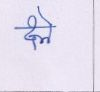o_matra: (44, 12, 54, 44)
